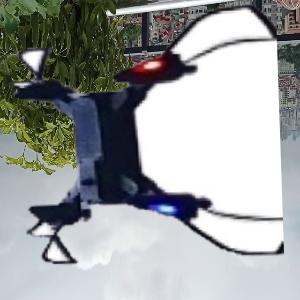drone: (5, 5, 282, 282)
